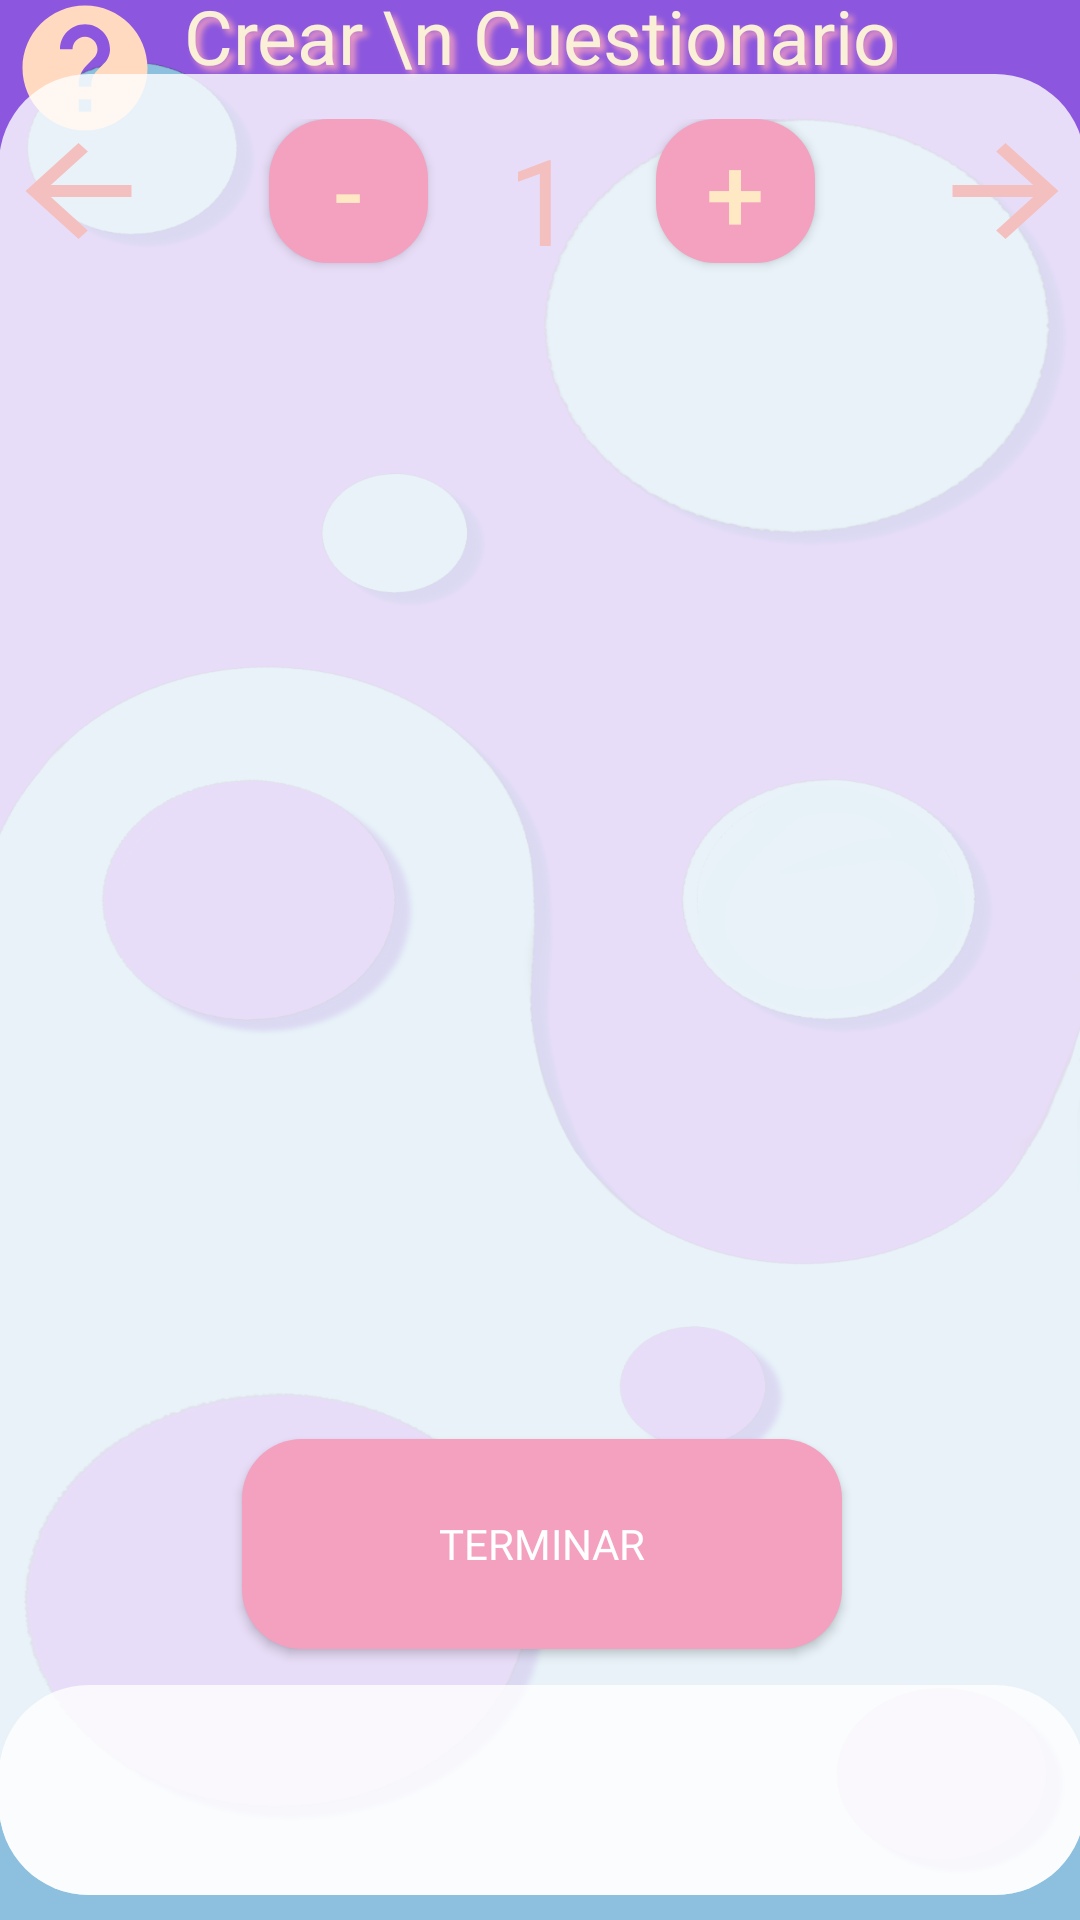

Where to tap for icons on this 1080×1920 app screen, as (x,y):
help: (85,71)
question arrow back: (79,181)
question arrow forward: (1005,191)
